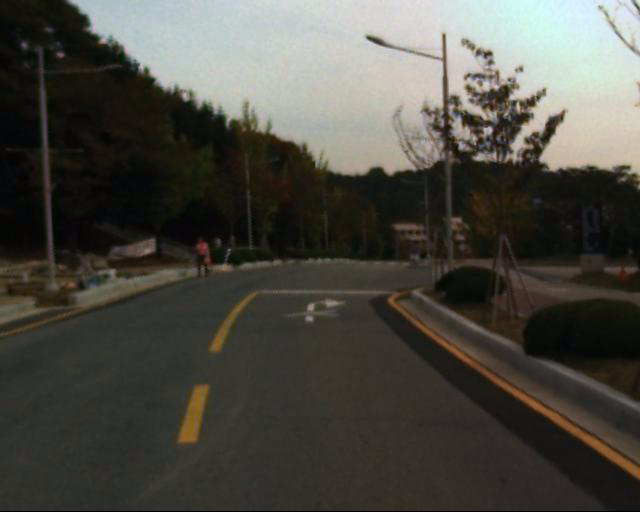person: (194, 229, 215, 271)
